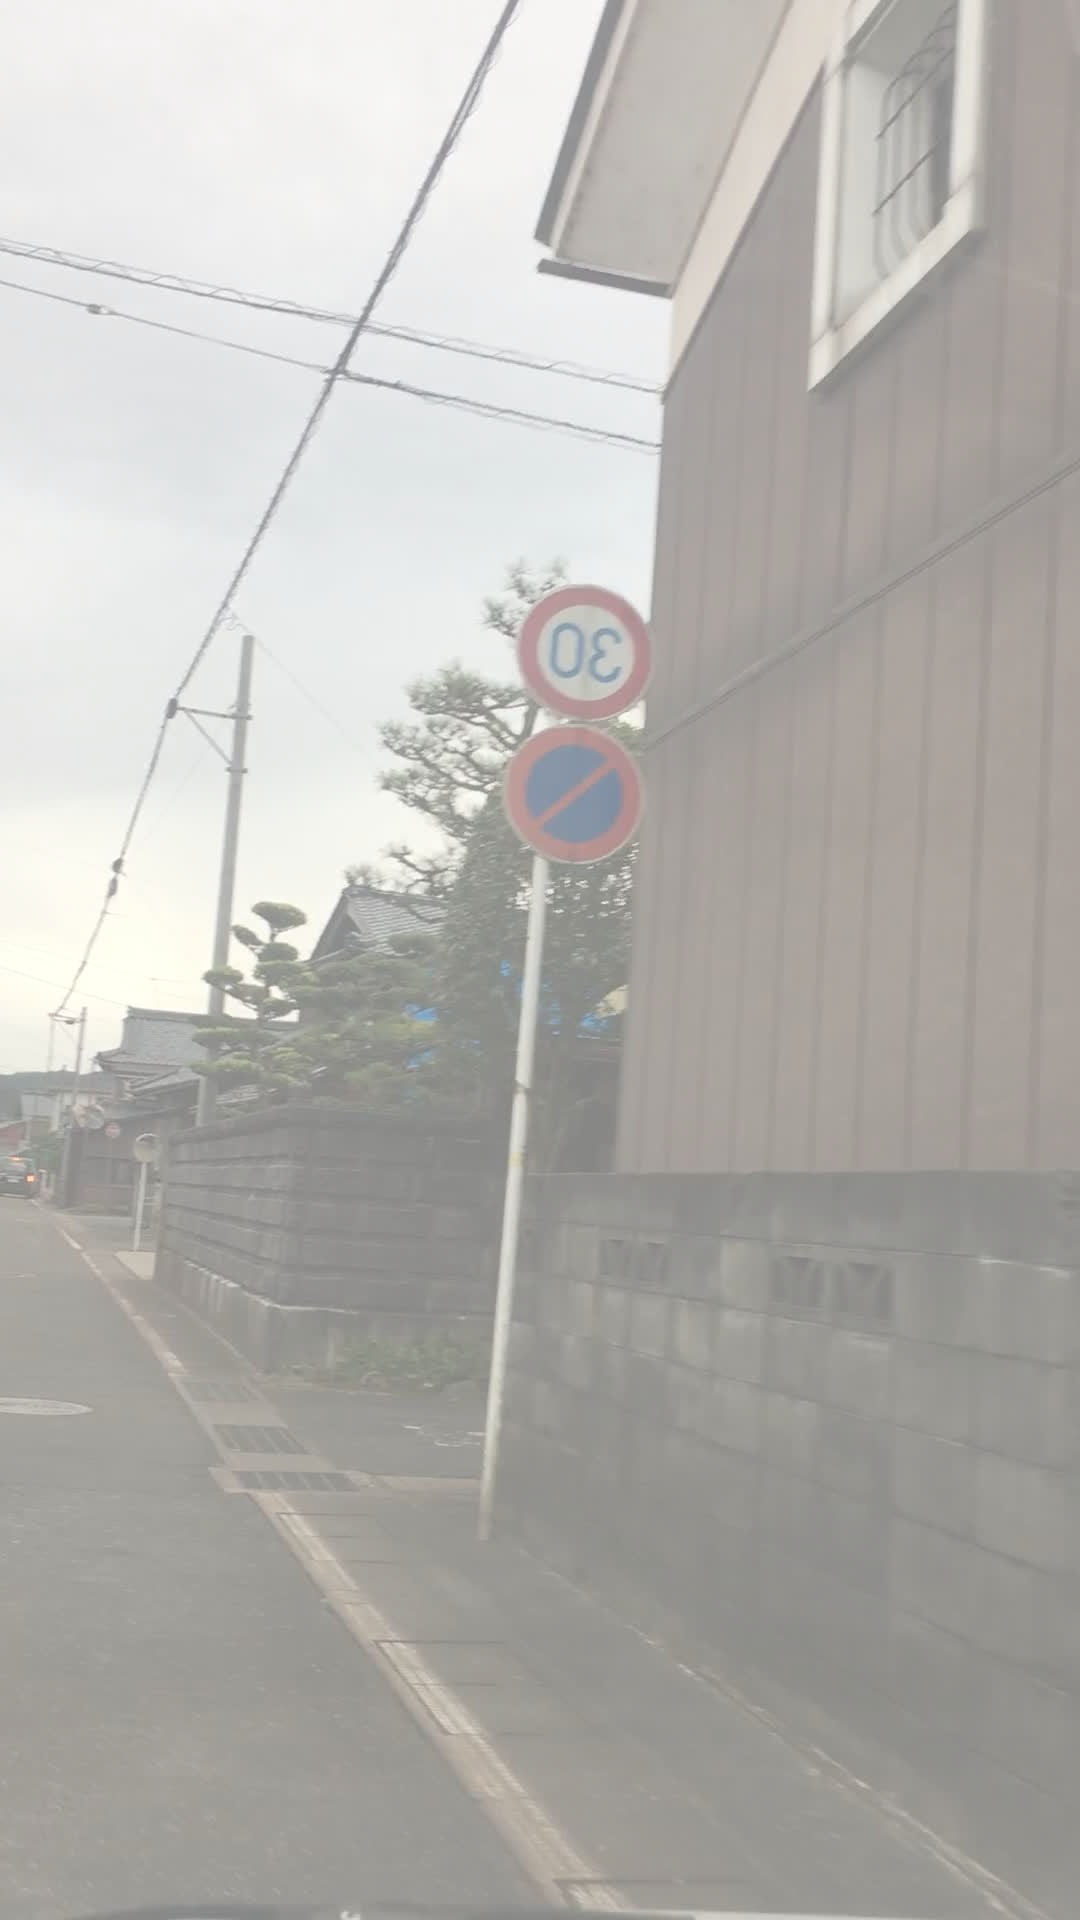Prohibition_sign: (502, 728, 642, 882)
Speed_sign: (516, 580, 673, 731)
